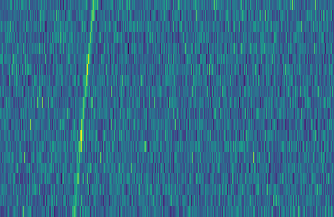signal: (67, 0, 97, 217)
